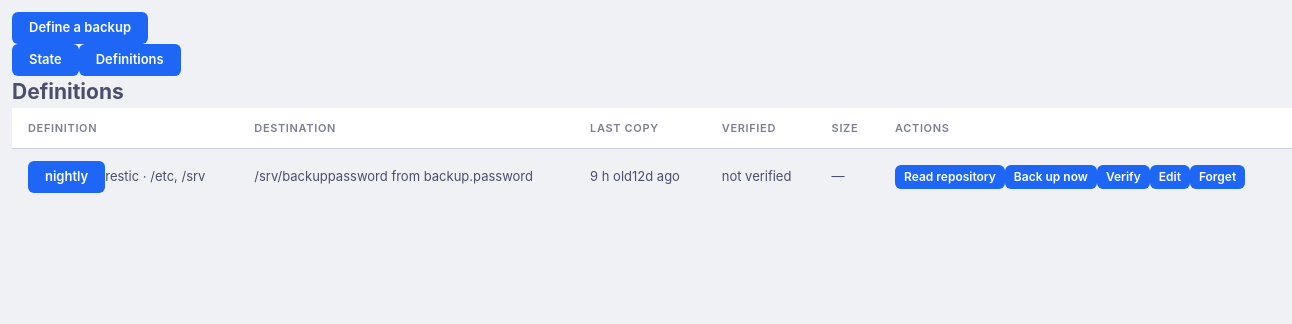
Scenario: what the module does › reads the run history of the definition the operator opened, and of no other
Click the button "nightly": (67, 177) [28,161,105,193]
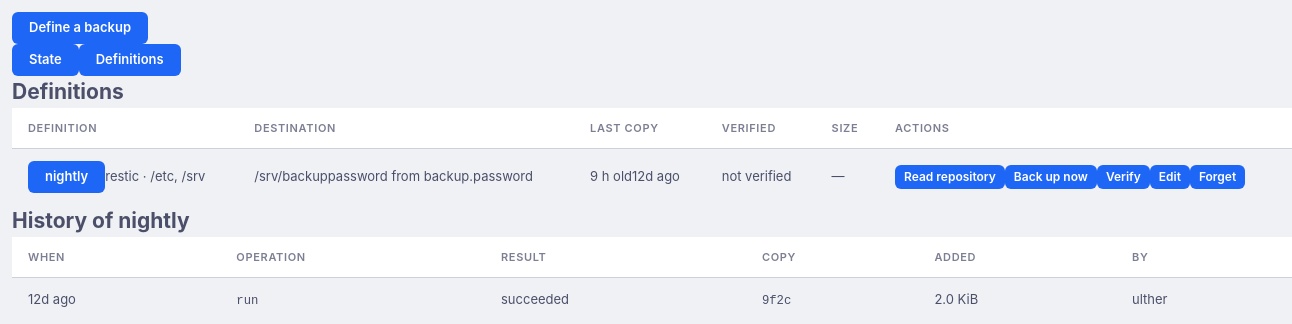
expect the table with test id "runs" shows "succeeded": met, box [501,291,569,307]
expect the table with test id "runs" shows "2.0 KiB": met, box [934,291,978,307]
